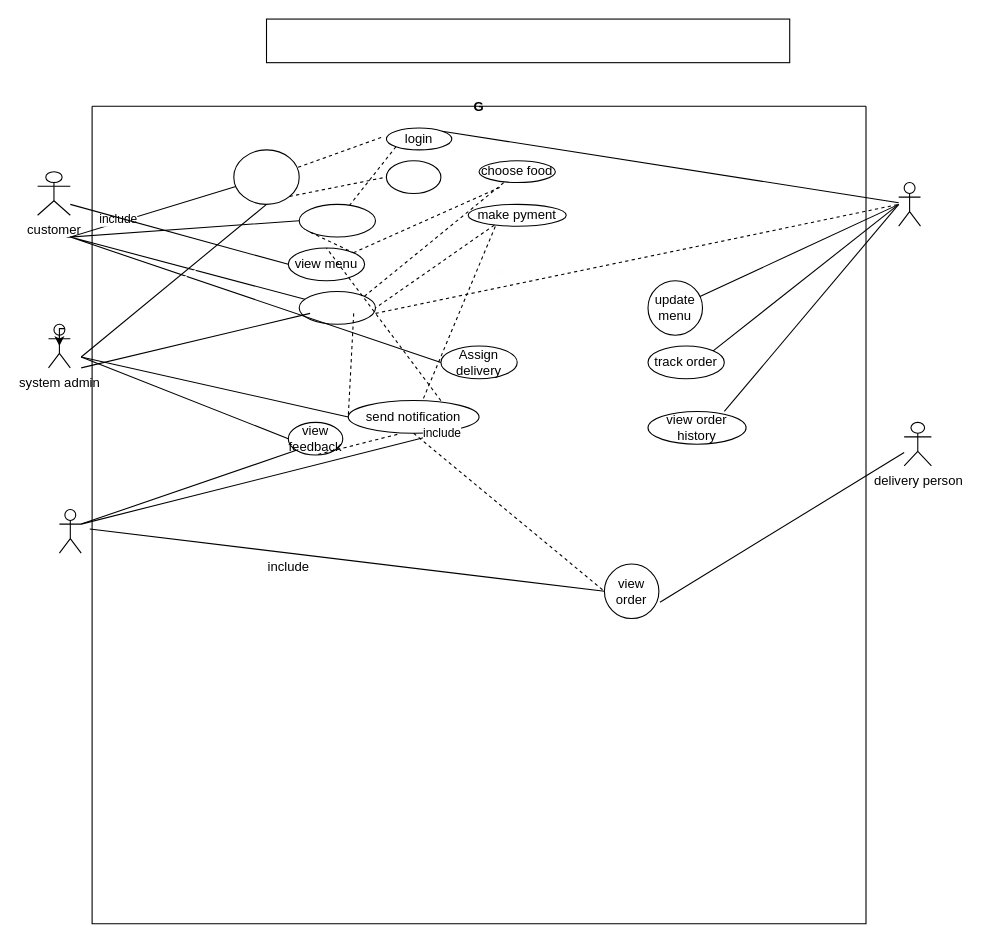
Some shapes in this 981 by 943 pixel diagram are drawn without their labels. The shapes that lost their labels are listed below. From the top down, each one's centre as x and y in pixels, then its label:
the point at 527,40: FOOD DELIVERY MANAGMENT SYSTER OF BERNOS HOTEL
the point at 266,176: Browse
the point at 413,176: signup
the point at 337,220: Place Order
the point at 909,203: hotel admin
the point at 337,307: submit order
the point at 69,530: kichen staff
